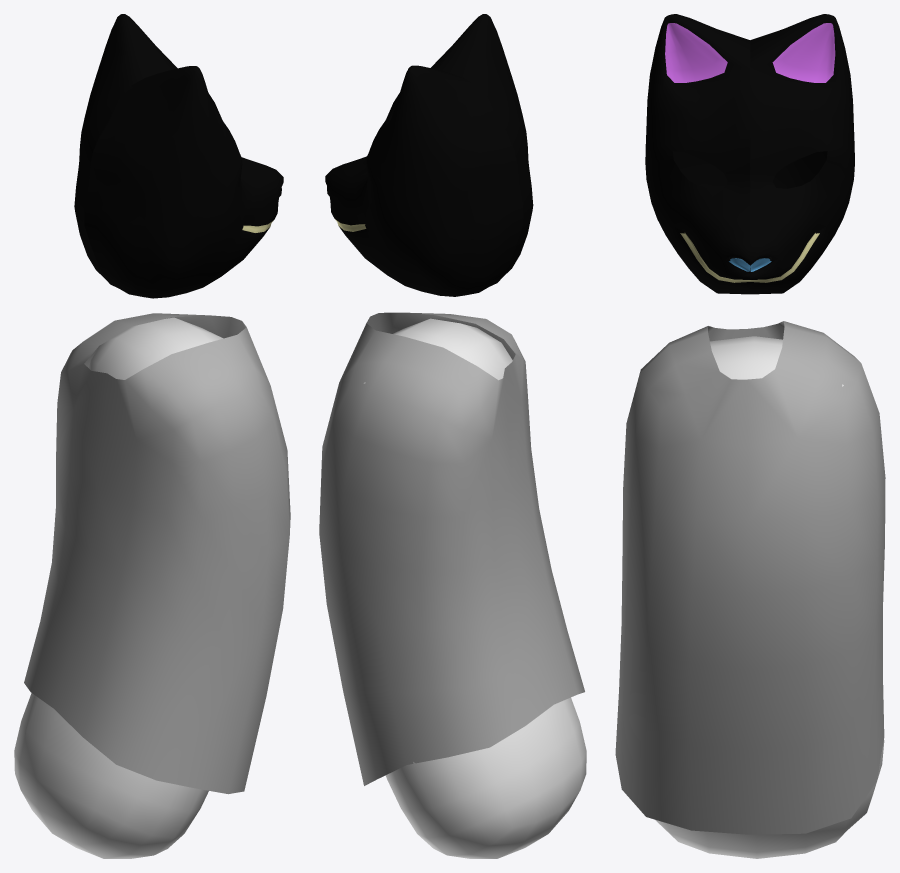
The model's file is NPC 13.fbx.
3 views of the same model, side by side, from view 1: azimuth 30°, elevation 25°; view 2: azimuth 150°, elevation 25°; view 3: azimuth 270°, elevation 25° (orthographic). The views are drawn at different scales.
Parts seen in each view (by area): view 1: T-shirt.014, Mask.013, body.014; view 2: T-shirt.014, Mask.013, body.014; view 3: T-shirt.014, Mask.013, body.014.
Part boxes in pixels (x1=…): T-shirt.014: x1=24, y1=313, x2=290, y2=794; Mask.013: x1=74, y1=14, x2=283, y2=298; body.014: x1=14, y1=317, x2=223, y2=858; T-shirt.014: x1=319, y1=312, x2=584, y2=785; Mask.013: x1=325, y1=14, x2=533, y2=296; body.014: x1=363, y1=318, x2=586, y2=858; T-shirt.014: x1=615, y1=321, x2=885, y2=834; Mask.013: x1=645, y1=14, x2=854, y2=294; body.014: x1=655, y1=336, x2=884, y2=858.
Bounding box in the file's own units: 2.38 × 7.48 × 2.12.
